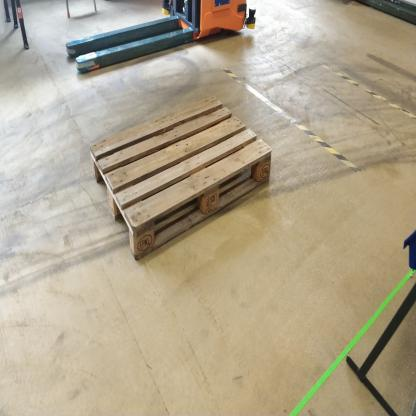BoxFace: (87, 87, 274, 273)
